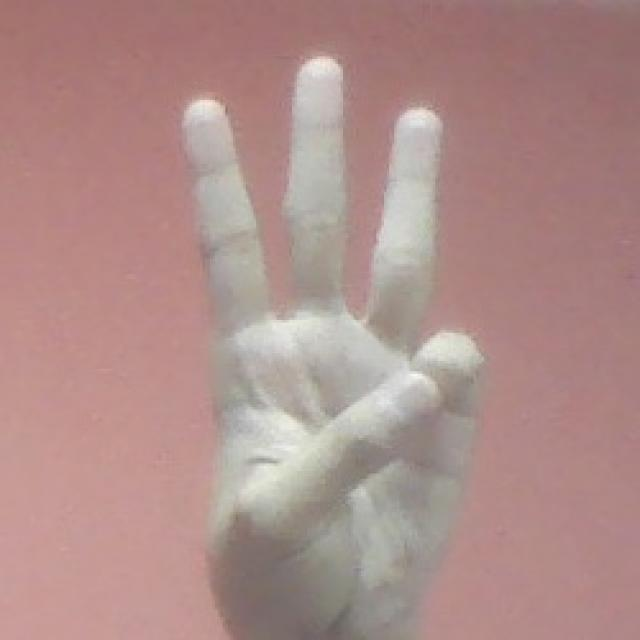Numeric-6: (179, 48, 483, 614)
